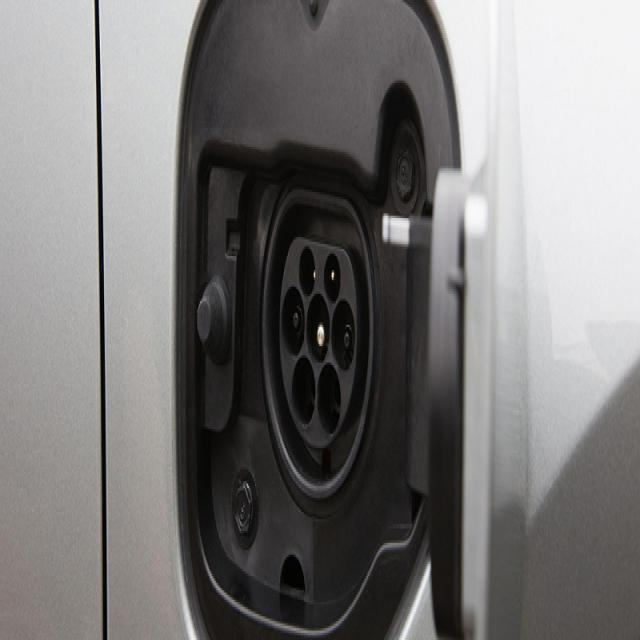Type 2: (222, 186, 410, 497)
